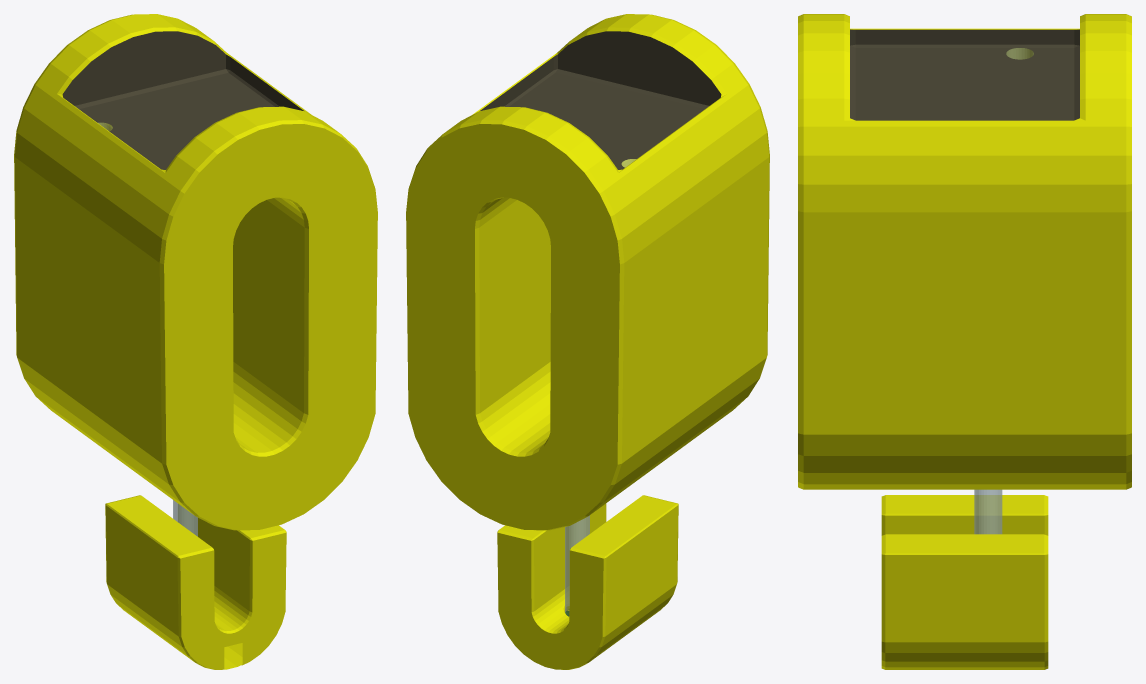
Rendered from obita_Vb_1.0.glb.
The picture shows the model from 3 angles, left to right: view 1: azimuth 30°, elevation 25°; view 2: azimuth 150°, elevation 25°; view 3: azimuth 270°, elevation 25°; orthographic projection. The views are drawn at different scales.
Visible parts, largest first — view 1: O, u, club; view 2: O, u, club, lift; view 3: O, u, club, lift.
Boxes of the visible parts, left/top/right/bottom form: O: left=14, top=14, right=377, bottom=530; u: left=105, top=495, right=286, bottom=669; club: left=62, top=31, right=303, bottom=169; O: left=406, top=14, right=769, bottom=530; u: left=497, top=495, right=678, bottom=669; club: left=480, top=31, right=721, bottom=169; lift: left=565, top=515, right=589, bottom=616; O: left=798, top=14, right=1131, bottom=489; u: left=881, top=495, right=1048, bottom=669; club: left=850, top=29, right=1079, bottom=120; lift: left=974, top=489, right=1002, bottom=534.
Size of what is drawn, in the model's own units: 33.63 by 84.45 by 40.15.
